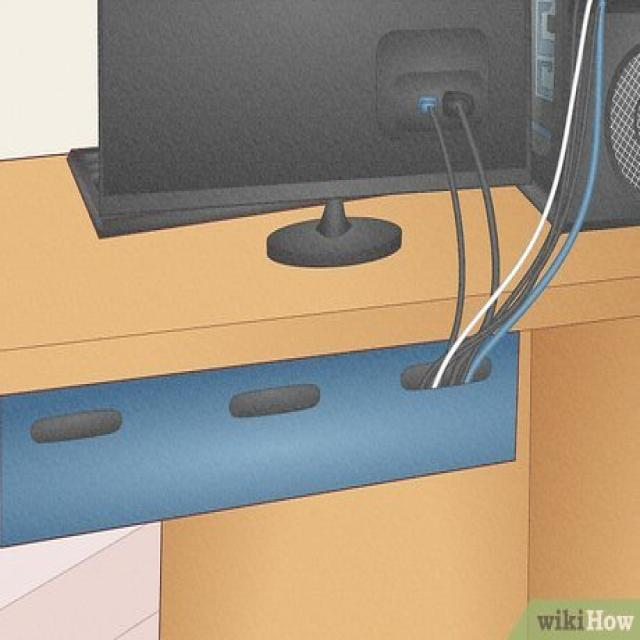electronics: (70, 0, 529, 236), (0, 336, 518, 544), (433, 0, 639, 386), (433, 0, 604, 386), (465, 0, 607, 378), (67, 147, 268, 236), (441, 93, 498, 326), (522, 0, 583, 208), (583, 2, 639, 224), (522, 4, 582, 202), (376, 30, 487, 135), (376, 30, 487, 134), (590, 0, 639, 223), (266, 198, 401, 263), (266, 197, 401, 262), (430, 108, 465, 354), (530, 0, 575, 187), (607, 32, 639, 189), (227, 384, 320, 416), (31, 410, 120, 442), (401, 356, 465, 390), (533, 0, 554, 98), (533, 4, 554, 96), (565, 143, 586, 224), (447, 132, 476, 184), (533, 106, 558, 154), (537, 210, 562, 256), (550, 134, 565, 198), (398, 56, 437, 80), (423, 364, 444, 386), (472, 356, 490, 380), (448, 67, 476, 82), (402, 82, 419, 106), (583, 98, 590, 137), (540, 206, 547, 221), (326, 223, 334, 236), (533, 108, 543, 117), (480, 174, 487, 186), (398, 45, 405, 52), (580, 93, 589, 98), (491, 232, 494, 245), (537, 195, 543, 200), (387, 48, 391, 54), (447, 176, 448, 182), (469, 132, 472, 134), (462, 352, 465, 354), (615, 208, 618, 210), (479, 108, 480, 113), (458, 110, 460, 112)
